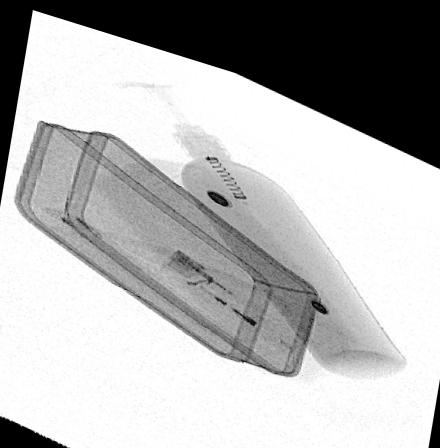Lighter: (161, 238, 305, 337)
